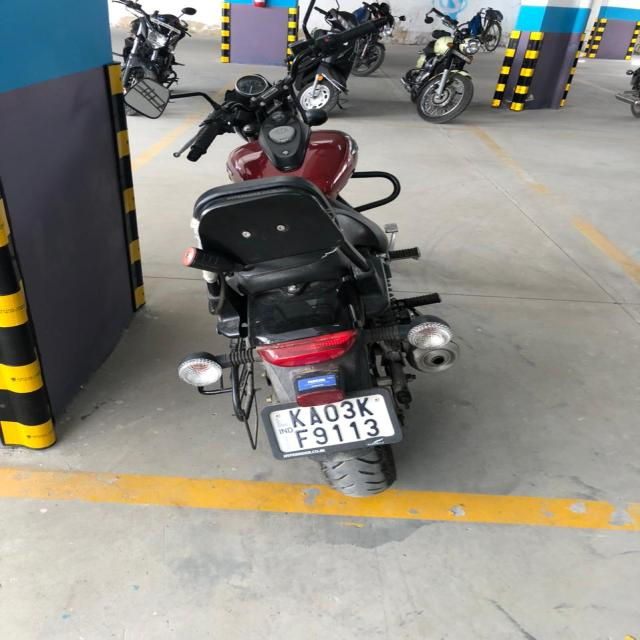license_plate: (260, 388, 403, 458)
